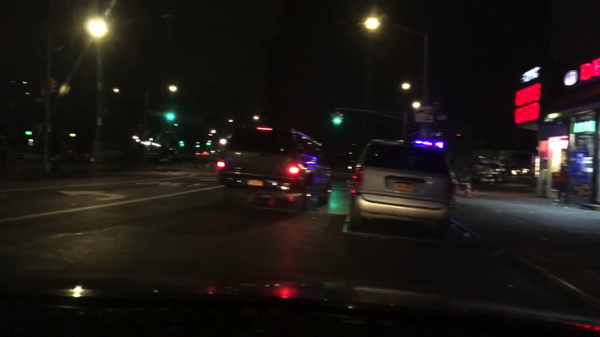car: (348, 139, 456, 235), (216, 126, 331, 213), (510, 168, 529, 176)
traffic light: (46, 76, 57, 93), (338, 113, 344, 125), (334, 113, 338, 125), (330, 113, 334, 124), (168, 112, 173, 120), (179, 140, 184, 147)
traffic sign: (413, 106, 434, 123), (435, 112, 448, 120), (33, 97, 49, 103), (432, 96, 439, 105), (150, 112, 163, 116)
